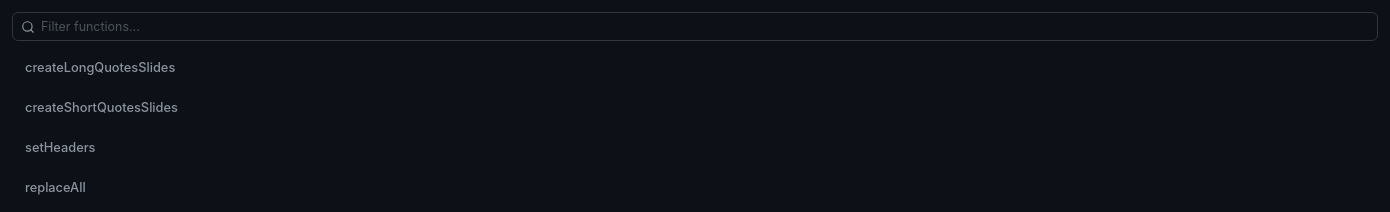
Scenario: FunctionSelector › search is case-insensitive
Step 1. Type "SETHEADERS" into the field with placeholder "Filter functions..." → (695, 26), box [12,12,1378,41]
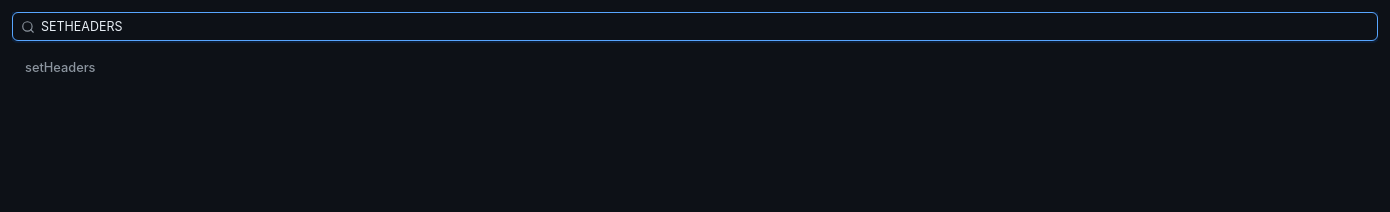
Expected: the text "setHeaders" is shown, [25,60,96,75]
Result: the button "replaceAll" is gone
